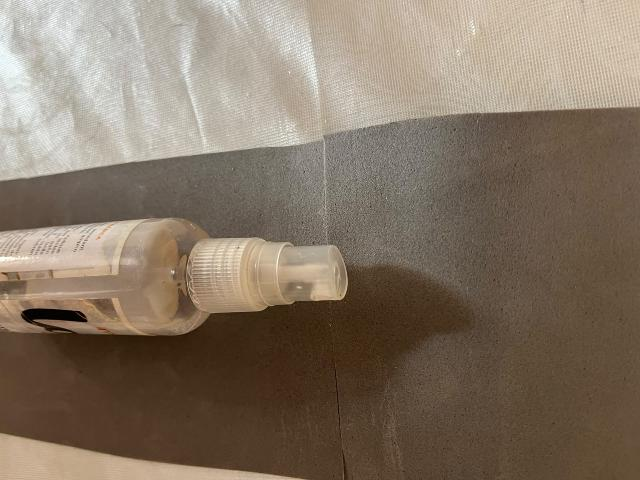PET: (3, 164, 388, 379)
